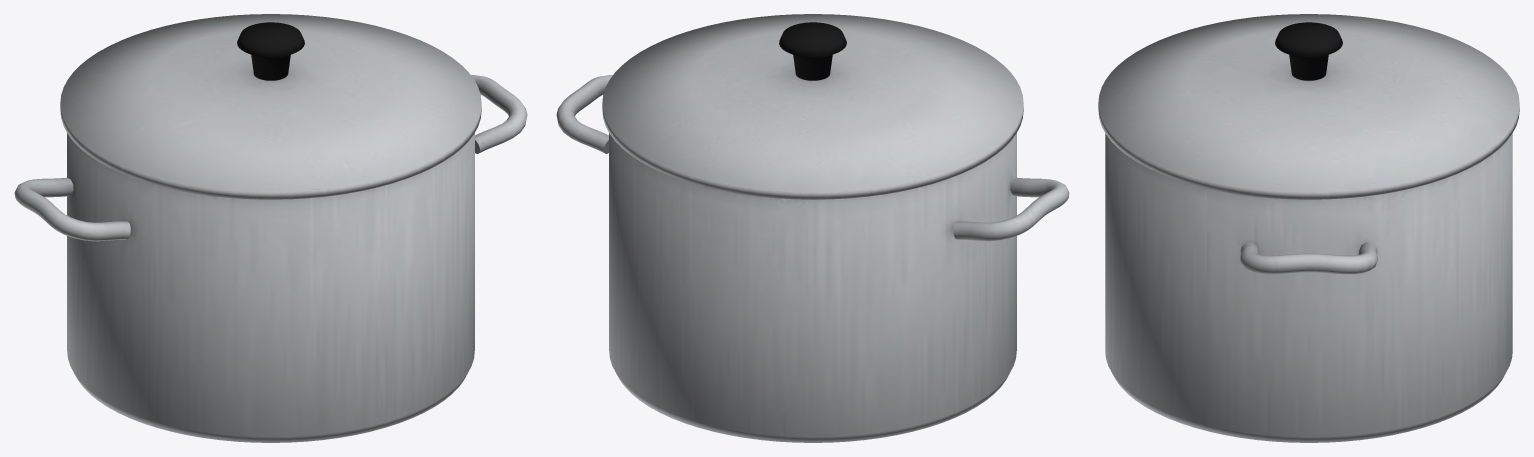
File: stockpot.glb
3 views of the same model, side by side, from view 1: azimuth 30°, elevation 25°; view 2: azimuth 150°, elevation 25°; view 3: azimuth 270°, elevation 25° (orthographic).
Parts seen in each view (by area): view 1: steel, bakelite; view 2: steel, bakelite; view 3: steel, bakelite.
Boxes of the visible parts, <box> form: steel: <box>14,14,527,442</box>; bakelite: <box>237,22,304,80</box>; steel: <box>556,14,1069,442</box>; bakelite: <box>779,22,846,80</box>; steel: <box>1098,14,1519,442</box>; bakelite: <box>1275,22,1342,80</box>.
Size of the model in its own units: 0.3219 by 0.212 by 0.248.
2 materials, 2 textured.
